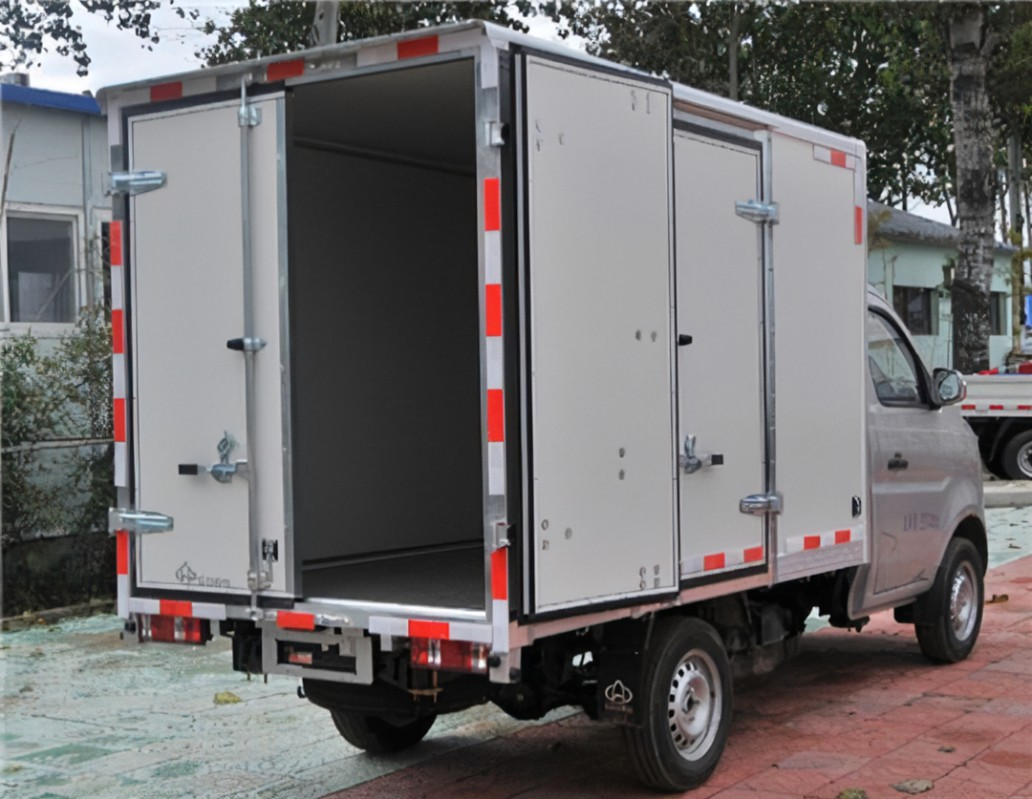smalltruck: (38, 17, 1003, 782)
